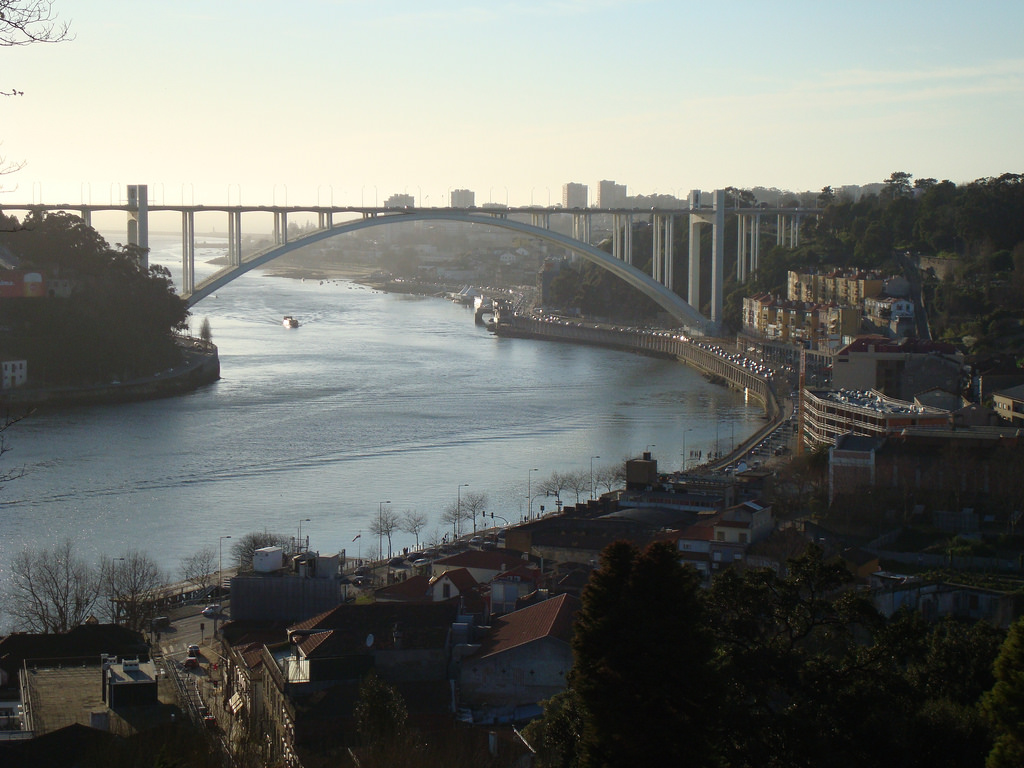arrabida: (0, 184, 819, 341)
